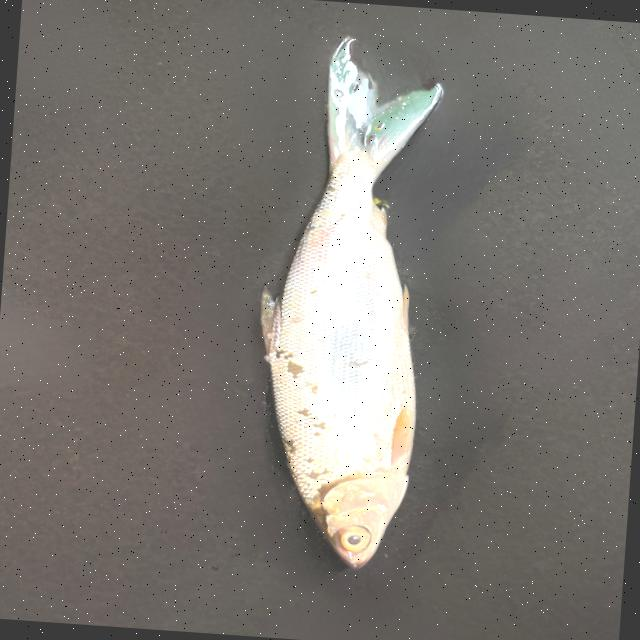650 g: (241, 29, 445, 572)
